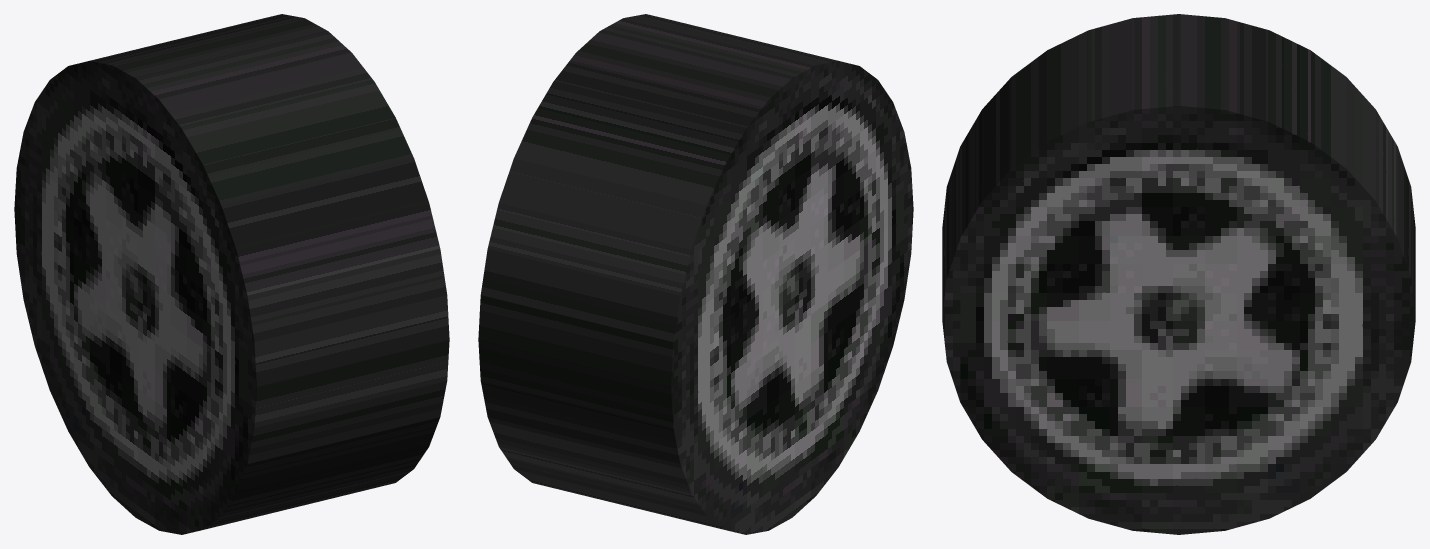
File: wheel2.glb
3 renders of one model, left to right at view 1: azimuth 30°, elevation 25°; view 2: azimuth 150°, elevation 25°; view 3: azimuth 270°, elevation 25°, orthographic. The views are drawn at different scales.
Parts seen in each view (by area): view 1: Cylinder; view 2: Cylinder; view 3: Cylinder.
Boxes of the visible parts, x1,y1,x2,y2 form: Cylinder: (14, 14, 449, 534); Cylinder: (478, 14, 913, 534); Cylinder: (942, 14, 1415, 534).
Bounding box in the file's own units: 0.5059 × 1.1 × 1.1.
1 material, 1 textured.
